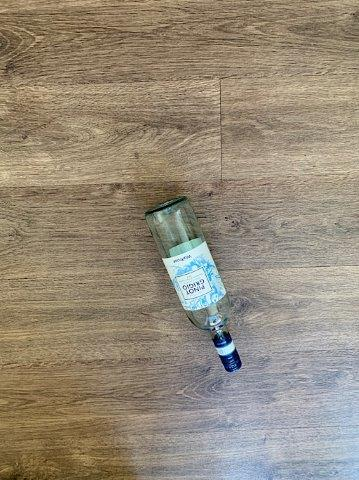botolkaca: (147, 197, 241, 371)
